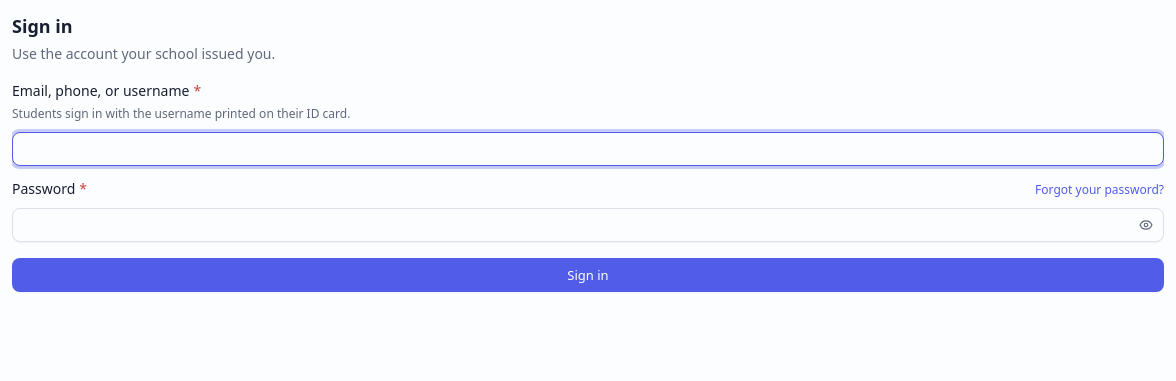
LoginForm › shows the generic error banner on 401
This screenshot has width=1176, height=381.
Type "admin@cityschool.test" into the field labelled "Email, phone, or username*". click: (588, 149)
box: [12,132,1164,166]
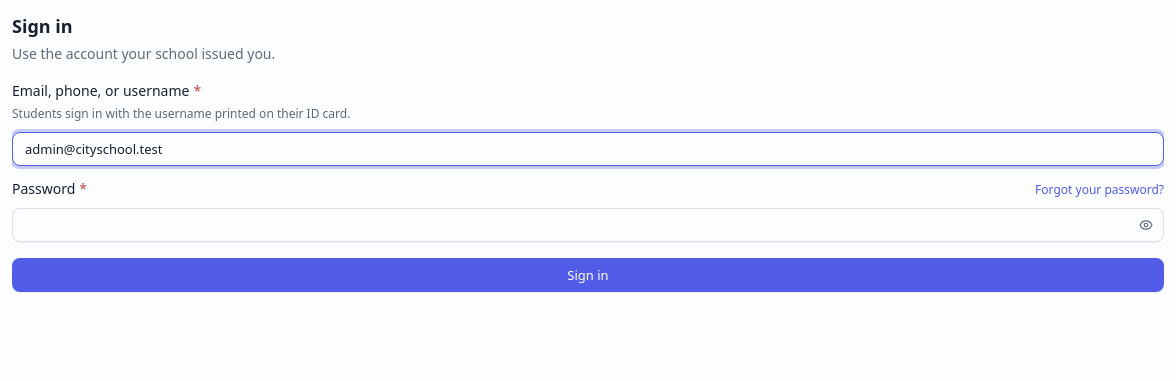
Type "wrong" into the password field labelled "Password*". click: (588, 225)
box: [12,208,1164,242]
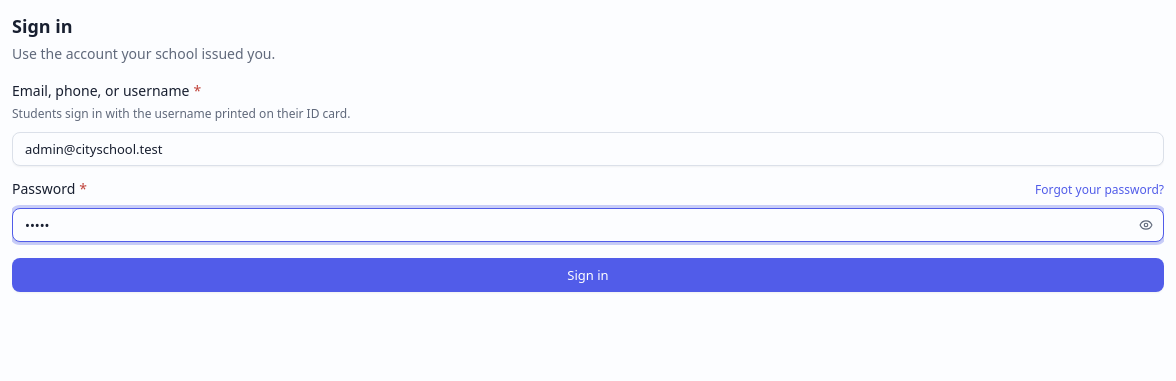
Click the button "Sign in". click: click(588, 275)
box: [12,258,1164,292]
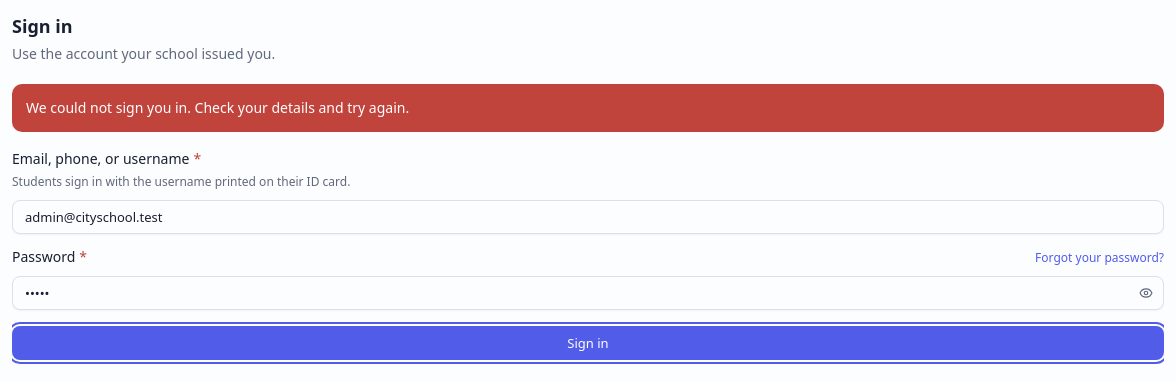
Now the text "We could not sign you in. Check your details and try again." is shown, box [26,98,409,118]
